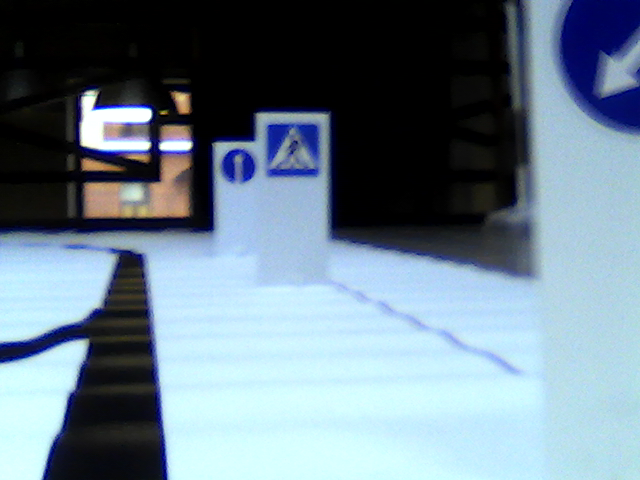forw: (221, 148, 255, 186)
pesh: (267, 122, 321, 180)
